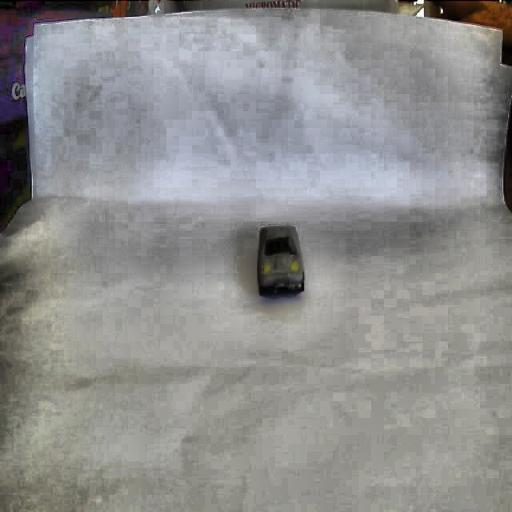normal_car: (256, 224, 306, 297)
